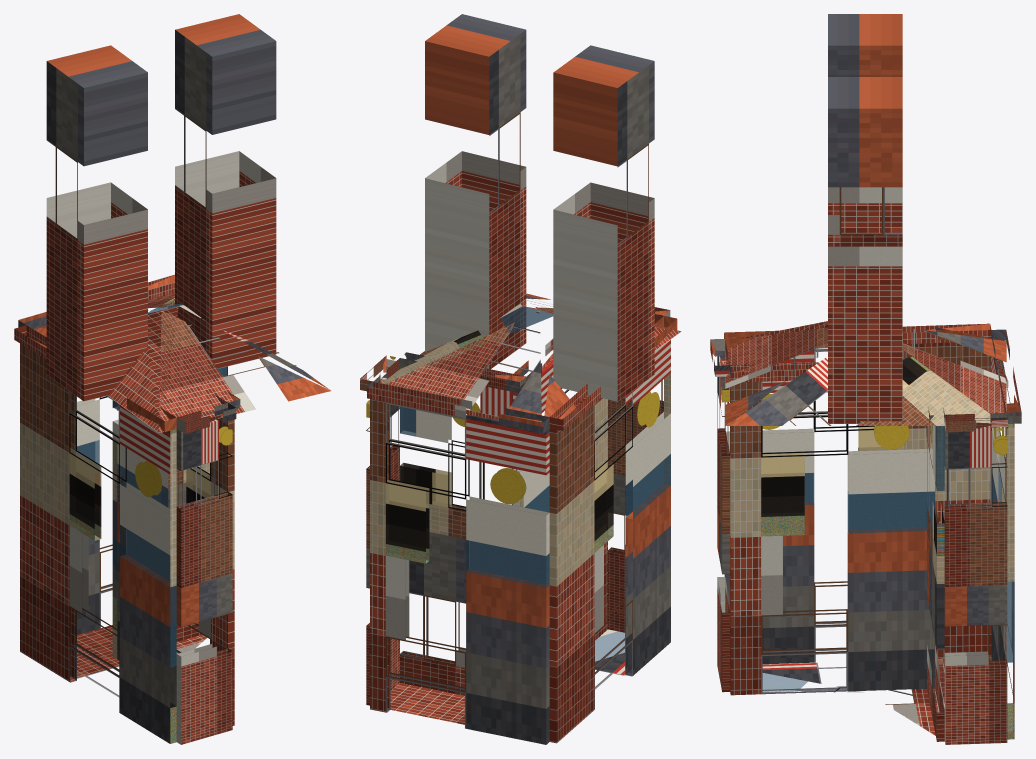
3 renders of one model, left to right at view 1: azimuth 30°, elevation 25°; view 2: azimuth 150°, elevation 25°; view 3: azimuth 270°, elevation 25°, orthographic.
Parts seen in each view (by area): view 1: 734333596__wall_0_xb, 734333596__chimney_0_xb, 734333596__chimney_1_xb, 734333596__wall_5_xb, 734333596_roof_front_xb, 734333596__wall_4_xb, 734333596__wall_0_xf, 734333596_roof_left_xb, 734333596__wall_1_xb, 734333596__wall_3_xb, 734333596__base, 734333596__cornice_0 (+5 smaller); view 2: 734333596__wall_1_xb, 734333596__chimney_0_xb, 734333596__wall_0_xb, 734333596__chimney_1_xb, 734333596__wall_3_xb, 734333596__wall_1_xf, 734333596_roof_back_xb, 734333596__wall_5_xb, 734333596__base, 734333596__cornice_1, 734333596__wall_0_xf, 734333596__wall_4_xb (+8 smaller); view 3: 734333596__wall_4_xb, 734333596__chimney_1_xb, 734333596__wall_2_xb, 734333596__wall_0_xb, 734333596__chimney_0_xb, 734333596__wall_4_xf, 734333596_roof_right_xb, 734333596__wall_3_xb, 734333596__wall_1_xb, 734333596_roof_back_xb, 734333596_roof_front_xb, 734333596__wall_5_xb (+10 smaller).
Boxes of the visible parts, bbox=[...] form: 734333596__wall_0_xb: bbox=[20, 343, 176, 743]; 734333596__chimney_0_xb: bbox=[46, 45, 147, 401]; 734333596__chimney_1_xb: bbox=[175, 14, 276, 368]; 734333596__wall_5_xb: bbox=[176, 419, 232, 744]; 734333596_roof_front_xb: bbox=[159, 311, 330, 432]; 734333596__wall_4_xb: bbox=[112, 417, 234, 725]; 734333596__wall_0_xf: bbox=[70, 429, 176, 743]; 734333596_roof_left_xb: bbox=[28, 306, 178, 432]; 734333596__wall_1_xb: bbox=[77, 302, 174, 634]; 734333596__wall_3_xb: bbox=[112, 367, 226, 658]; 734333596__base: bbox=[77, 625, 207, 697]; 734333596__cornice_0: bbox=[14, 325, 176, 432]; 734333596__wall_1_xb: bbox=[370, 399, 549, 744]; 734333596__chimney_0_xb: bbox=[553, 45, 654, 401]; 734333596__wall_0_xb: bbox=[549, 340, 670, 743]; 734333596__chimney_1_xb: bbox=[425, 14, 526, 369]; 734333596__wall_3_xb: bbox=[400, 386, 523, 695]; 734333596__wall_1_xf: bbox=[386, 481, 549, 587]; 734333596_roof_back_xb: bbox=[386, 311, 541, 433]; 734333596__wall_5_xb: bbox=[608, 380, 663, 632]; 734333596__base: bbox=[390, 629, 624, 724]; 734333596__cornice_1: bbox=[367, 381, 549, 433]; 734333596__wall_0_xf: bbox=[594, 454, 670, 551]; 734333596__wall_4_xb: bbox=[513, 359, 607, 640]; 734333596__wall_4_xb: bbox=[730, 381, 934, 695]; 734333596__chimney_1_xb: bbox=[828, 77, 902, 423]; 734333596__wall_2_xb: bbox=[944, 426, 1007, 744]; 734333596__wall_0_xb: bbox=[724, 342, 991, 664]; 734333596__chimney_0_xb: bbox=[828, 14, 902, 233]; 734333596__wall_4_xf: bbox=[761, 449, 934, 535]; 734333596_roof_right_xb: bbox=[726, 357, 991, 425]; 734333596__wall_3_xb: bbox=[926, 426, 944, 741]; 734333596__wall_1_xb: bbox=[991, 356, 1014, 739]; 734333596_roof_back_xb: bbox=[902, 329, 1006, 413]; 734333596_roof_front_xb: bbox=[725, 327, 827, 425]; 734333596__wall_5_xb: bbox=[717, 350, 729, 692].
Bounding box in the file's own units: 0.4894 × 1.4 × 0.6257.
Materials: 1 (1 with a texture image).
